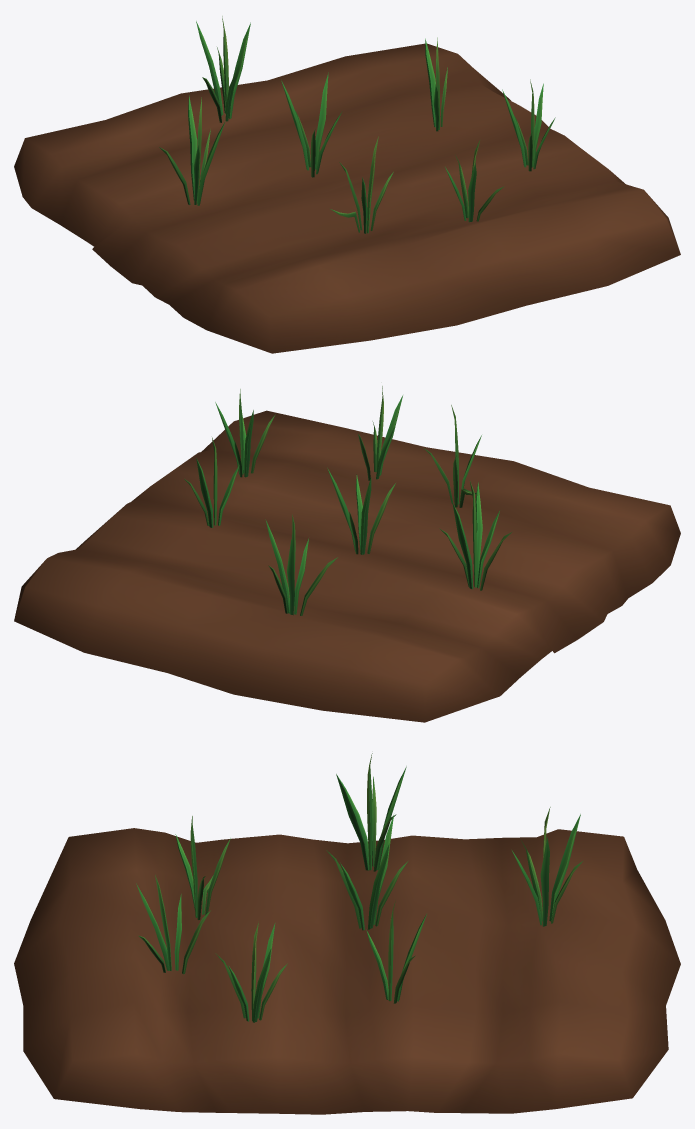
Rendered from SM_PlantSoil_Onion_Lv1.fbx.
The picture shows the model from 3 angles, top to bottom: view 1: azimuth 30°, elevation 25°; view 2: azimuth 150°, elevation 25°; view 3: azimuth 270°, elevation 25°; orthographic projection. The views are drawn at different scales.
Parts seen in each view (by area): view 1: SM_PlantSoil_Onion_Lv1; view 2: SM_PlantSoil_Onion_Lv1; view 3: SM_PlantSoil_Onion_Lv1.
Boxes of the visible parts, box(x1,y1,x2,y2) form: SM_PlantSoil_Onion_Lv1: box(14, 16, 680, 353); SM_PlantSoil_Onion_Lv1: box(14, 386, 680, 722); SM_PlantSoil_Onion_Lv1: box(14, 753, 680, 1114).
Bounding box in the file's own units: 96.14 × 29.58 × 103.
